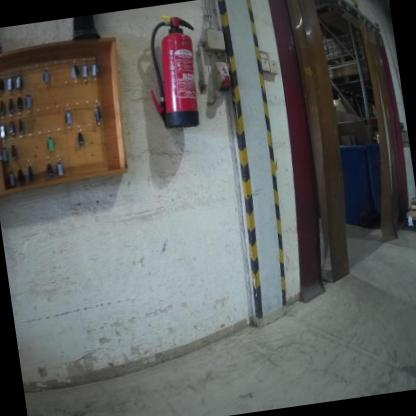pallet: (326, 49, 367, 69), (329, 71, 371, 90)
